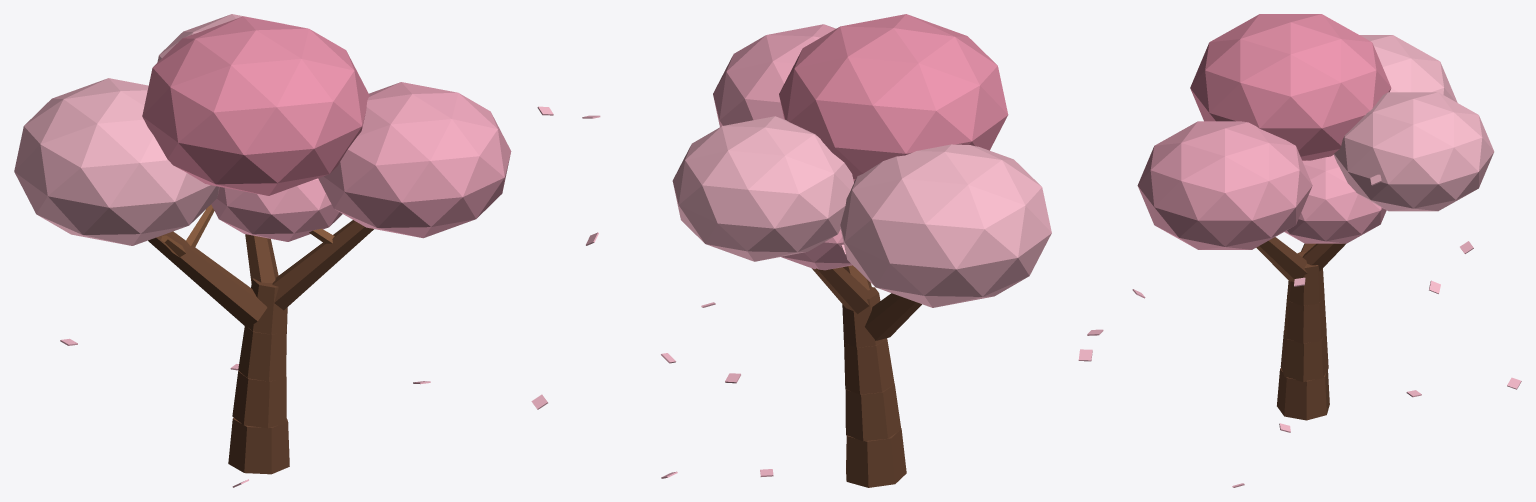
The model's file is bay-cherry-tree.glb.
3 renders of one model, left to right at view 1: azimuth 30°, elevation 25°; view 2: azimuth 150°, elevation 25°; view 3: azimuth 270°, elevation 25°, orthographic. The views are drawn at different scales.
Parts seen in each view (by area): view 1: GEO-cherry_canopy_3, GEO-cherry_canopy_0, GEO-cherry_canopy_1, GEO-cherry_canopy_4, GEO-cherry_branch_0, GEO-cherry_branch_1, GEO-cherry_trunk_0, GEO-cherry_trunk_1, GEO-cherry_trunk_2, GEO-cherry_trunk_3, GEO-cherry_branch_2, GEO-cherry_canopy_2; view 2: GEO-cherry_canopy_0, GEO-cherry_canopy_3, GEO-cherry_canopy_2, GEO-cherry_canopy_1, GEO-cherry_trunk_0, GEO-cherry_trunk_1, GEO-cherry_trunk_2, GEO-cherry_branch_0, GEO-cherry_branch_2, GEO-cherry_canopy_4, GEO-cherry_trunk_3; view 3: GEO-cherry_canopy_3, GEO-cherry_canopy_1, GEO-cherry_canopy_2, GEO-cherry_canopy_4, GEO-cherry_canopy_0, GEO-cherry_trunk_0, GEO-cherry_trunk_1, GEO-cherry_trunk_2, GEO-cherry_branch_1, GEO-cherry_trunk_3, GEO-cherry_branch_2.
Boxes of the visible parts, x1,y1,x2,y2 form: GEO-cherry_canopy_3: [142, 16, 369, 195]; GEO-cherry_canopy_0: [14, 78, 219, 245]; GEO-cherry_canopy_1: [318, 82, 511, 238]; GEO-cherry_canopy_4: [211, 178, 342, 241]; GEO-cherry_branch_0: [148, 231, 267, 327]; GEO-cherry_branch_1: [272, 220, 373, 310]; GEO-cherry_trunk_0: [228, 417, 289, 474]; GEO-cherry_trunk_1: [232, 371, 286, 428]; GEO-cherry_trunk_2: [238, 326, 286, 381]; GEO-cherry_trunk_3: [248, 278, 287, 334]; GEO-cherry_branch_2: [245, 234, 278, 283]; GEO-cherry_canopy_2: [157, 14, 283, 62]; GEO-cherry_canopy_0: [840, 144, 1051, 307]; GEO-cherry_canopy_3: [779, 14, 1008, 181]; GEO-cherry_canopy_2: [672, 116, 853, 261]; GEO-cherry_canopy_1: [713, 24, 835, 126]; GEO-cherry_trunk_0: [846, 428, 906, 487]; GEO-cherry_trunk_1: [845, 384, 901, 441]; GEO-cherry_trunk_2: [844, 339, 894, 394]; GEO-cherry_branch_0: [865, 293, 921, 340]; GEO-cherry_branch_2: [812, 267, 871, 313]; GEO-cherry_canopy_4: [781, 229, 852, 270]; GEO-cherry_trunk_3: [842, 287, 886, 347]; GEO-cherry_canopy_3: [1190, 14, 1391, 160]; GEO-cherry_canopy_1: [1137, 121, 1312, 249]; GEO-cherry_canopy_2: [1333, 92, 1494, 211]; GEO-cherry_canopy_4: [1284, 155, 1386, 243]; GEO-cherry_canopy_0: [1360, 35, 1457, 102]; GEO-cherry_trunk_0: [1277, 368, 1329, 420]; GEO-cherry_trunk_1: [1280, 330, 1328, 382]; GEO-cherry_trunk_2: [1284, 293, 1326, 343]; GEO-cherry_branch_1: [1256, 237, 1307, 282]; GEO-cherry_trunk_3: [1287, 252, 1324, 305]; GEO-cherry_branch_2: [1302, 243, 1345, 271].
Bounding box in the file's own units: 4.57 × 3.85 × 3.56.
